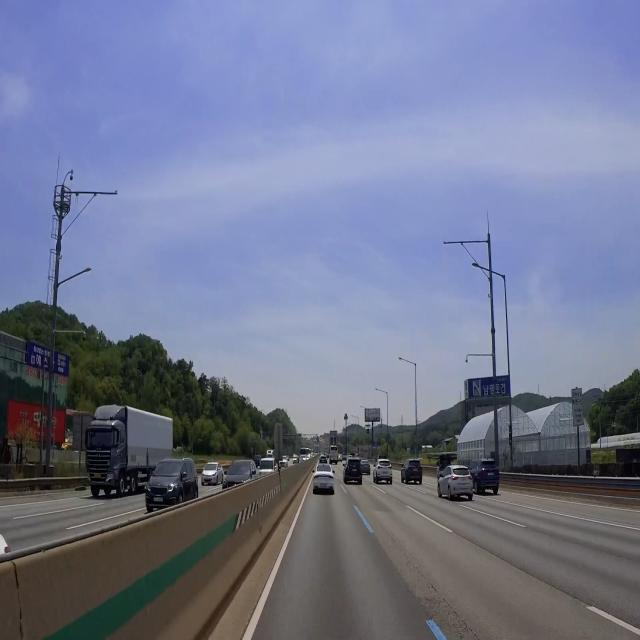car: (150, 491, 166, 509), (456, 483, 473, 497), (318, 478, 331, 494), (90, 469, 103, 483), (482, 467, 498, 478), (380, 467, 392, 481), (348, 466, 360, 477), (410, 466, 422, 477)
